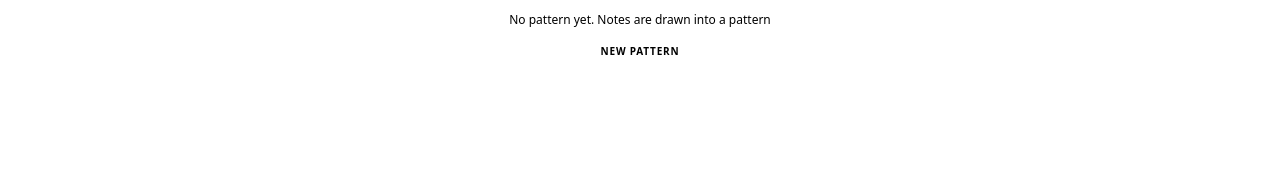
Scenario: the Piano Roll › offers to add a pattern when there’s none
Click the button "New pattern" at (640, 51), box [594,40,685,62]
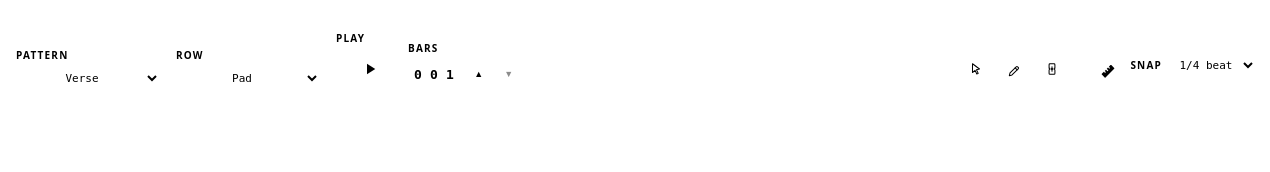
expect the dropdown named "Pattern" is shown: met, box [16,69,160,88]
